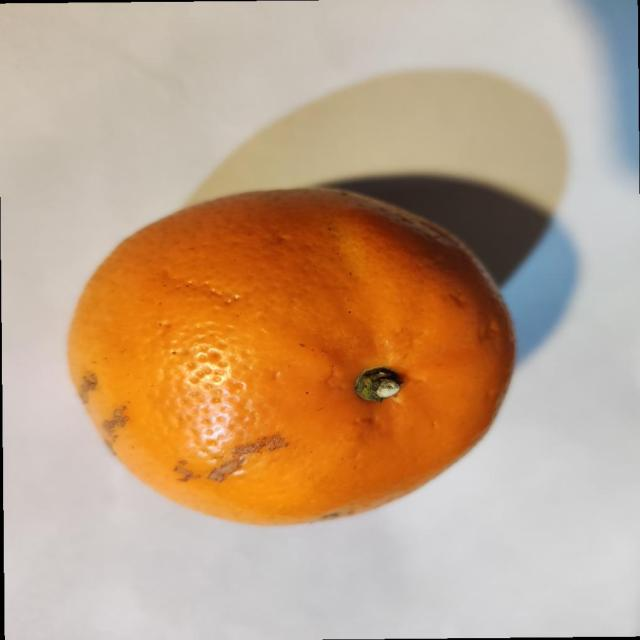fresh orange: (66, 185, 517, 527)
